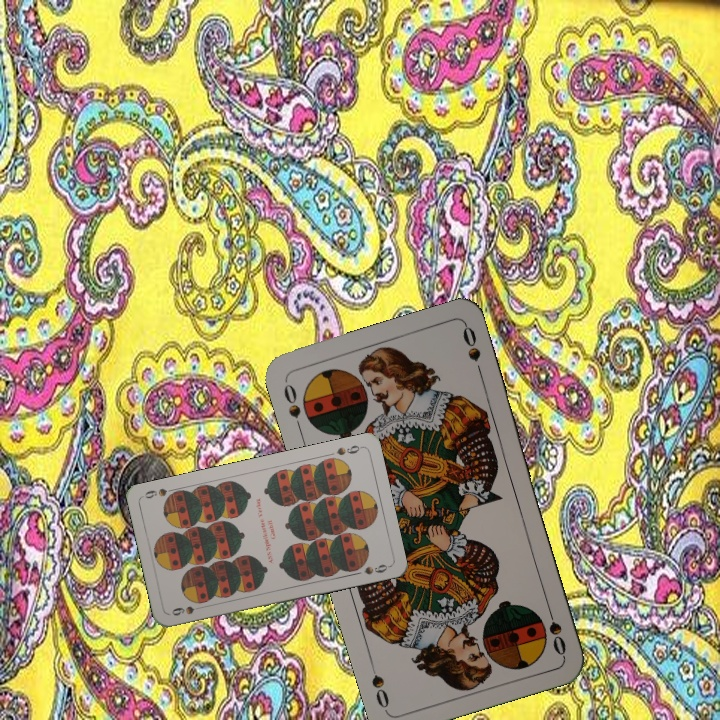S9: (167, 601, 207, 618), (333, 441, 365, 458)
SO: (542, 600, 569, 658), (279, 377, 305, 435)
